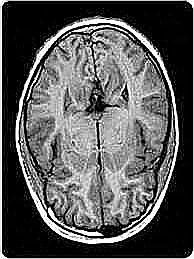Normal_Brain: (7, 3, 194, 259)
